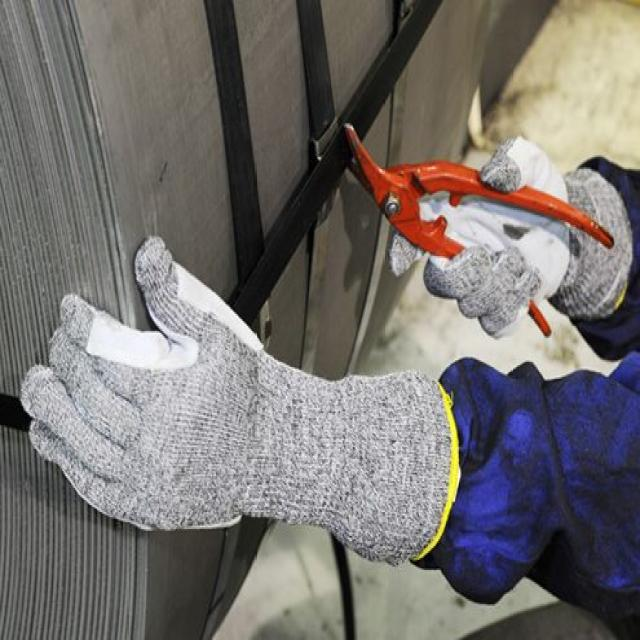gloves: (19, 239, 454, 567), (389, 140, 635, 336)
